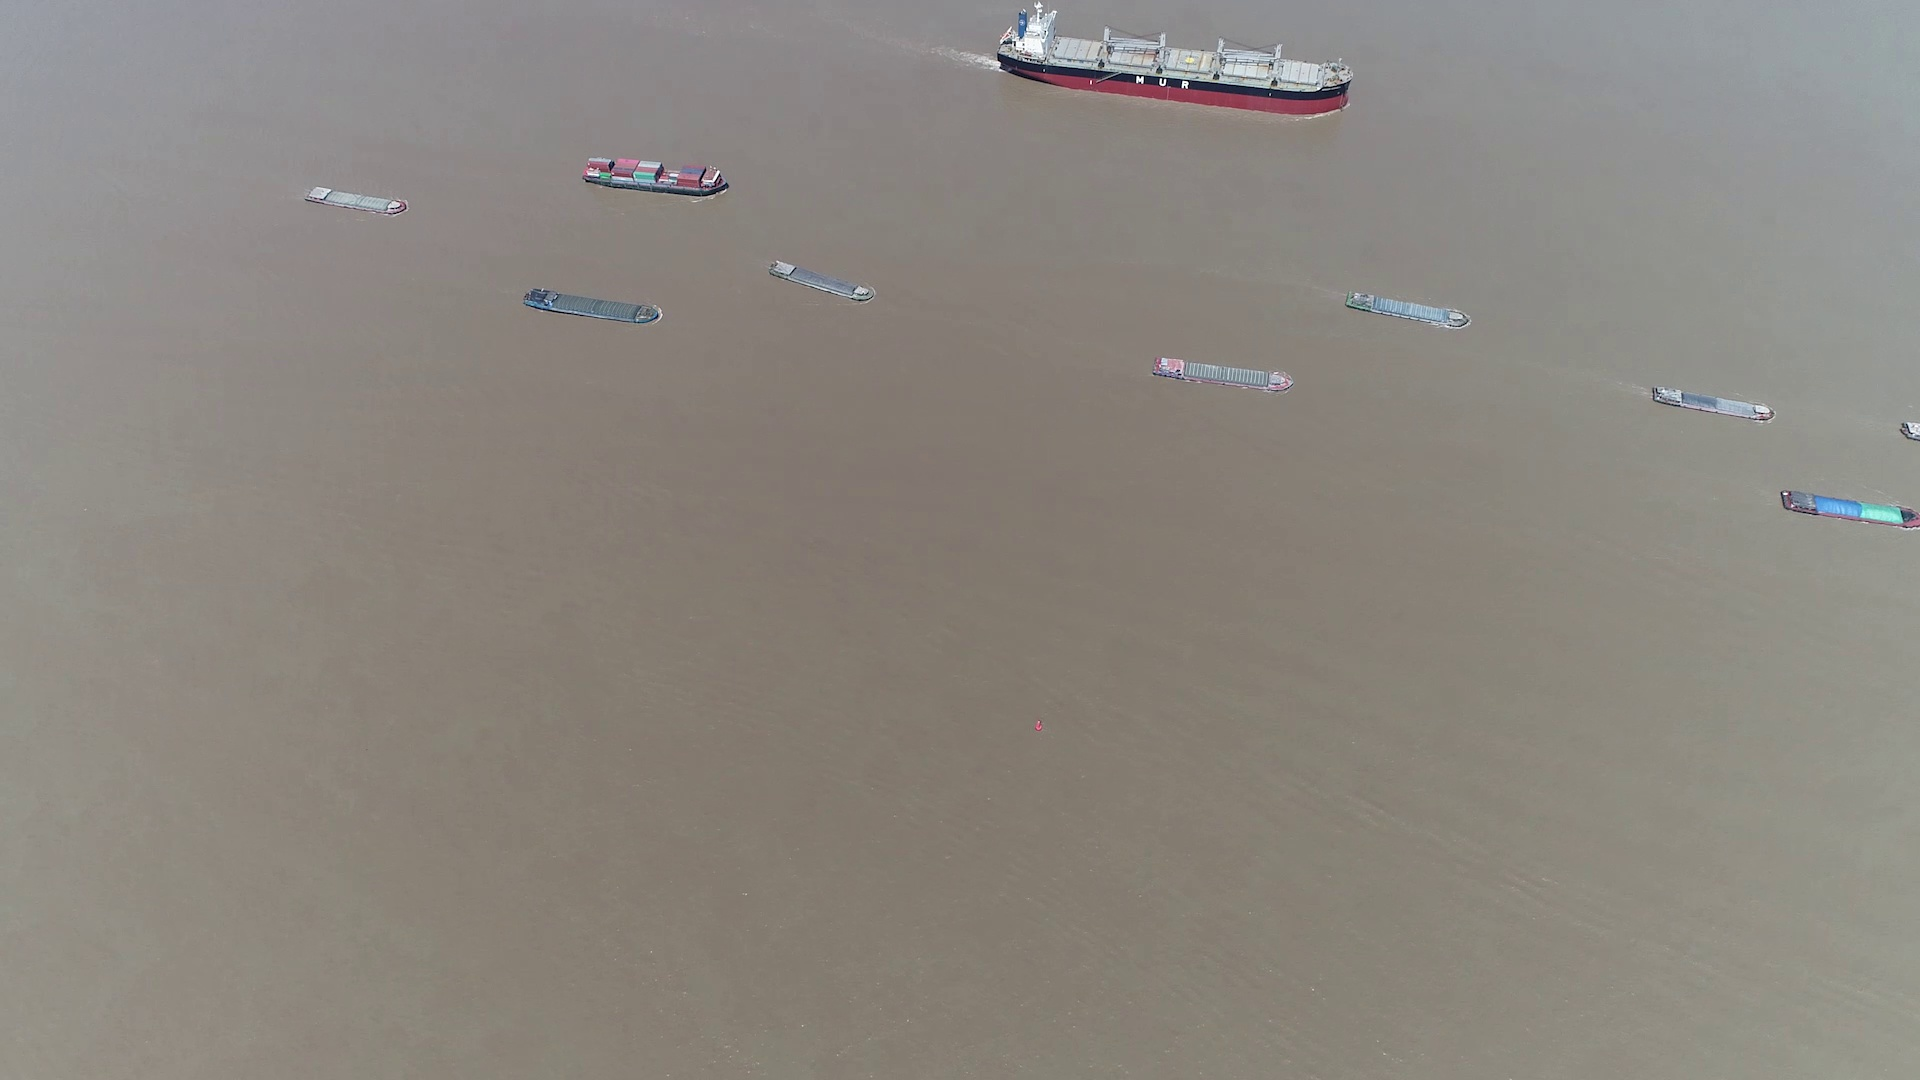ship: (996, 11, 1352, 113), (1780, 488, 1920, 531), (582, 158, 731, 196), (524, 287, 663, 326), (1153, 355, 1292, 392), (1345, 287, 1469, 328), (1648, 384, 1774, 421), (770, 262, 876, 305), (305, 185, 406, 215)
